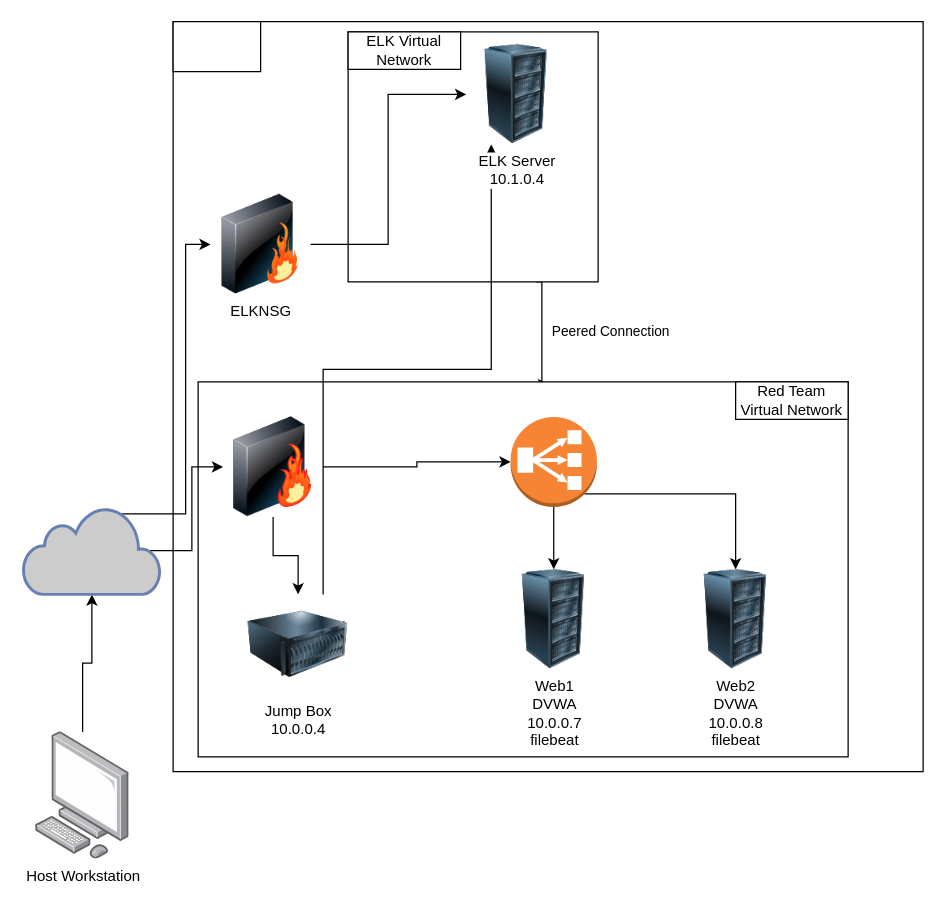
Image size: 945x908. Some labels were removed from this diagram. Here are the shapes that lost their labels. From the top down, the centre of each, then its label:
At [216,46]: "Resource Group".
At [272,466]: "RedTeamNSG".
At [553,461]: "Load Balancer".
At [91,550]: "Azure Cloud".
